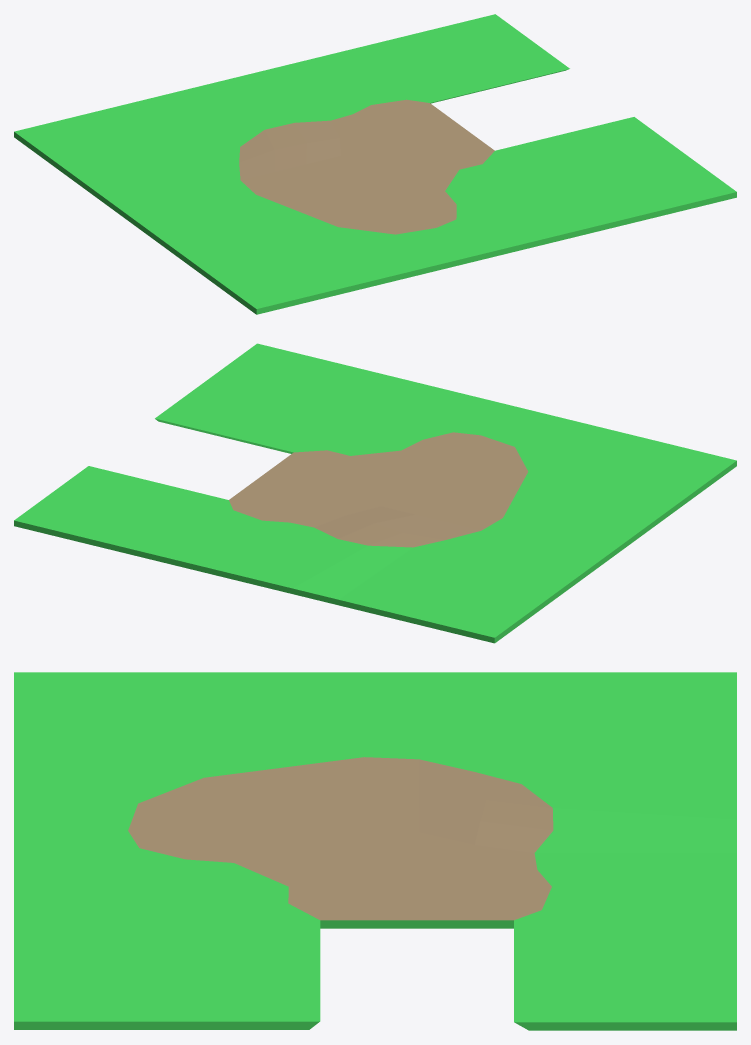
Rendered from suelo_cueva.fbx.
3 views of the same model, one above another, from view 1: azimuth 30°, elevation 25°; view 2: azimuth 150°, elevation 25°; view 3: azimuth 270°, elevation 25° (orthographic). The views are drawn at different scales.
Visible parts, largest first — view 1: suelo; view 2: suelo; view 3: suelo.
Boxes of the visible parts, x1,y1,x2,y2 form: suelo: (14, 14, 736, 314); suelo: (14, 343, 736, 643); suelo: (14, 672, 736, 1030).
Bounding box in the file's own units: 20909 × 278 × 18244.
